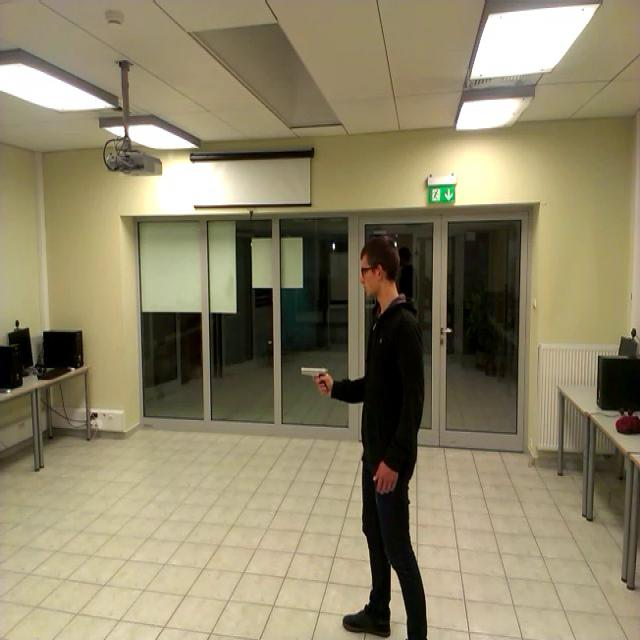handgun: (294, 356, 334, 410)
